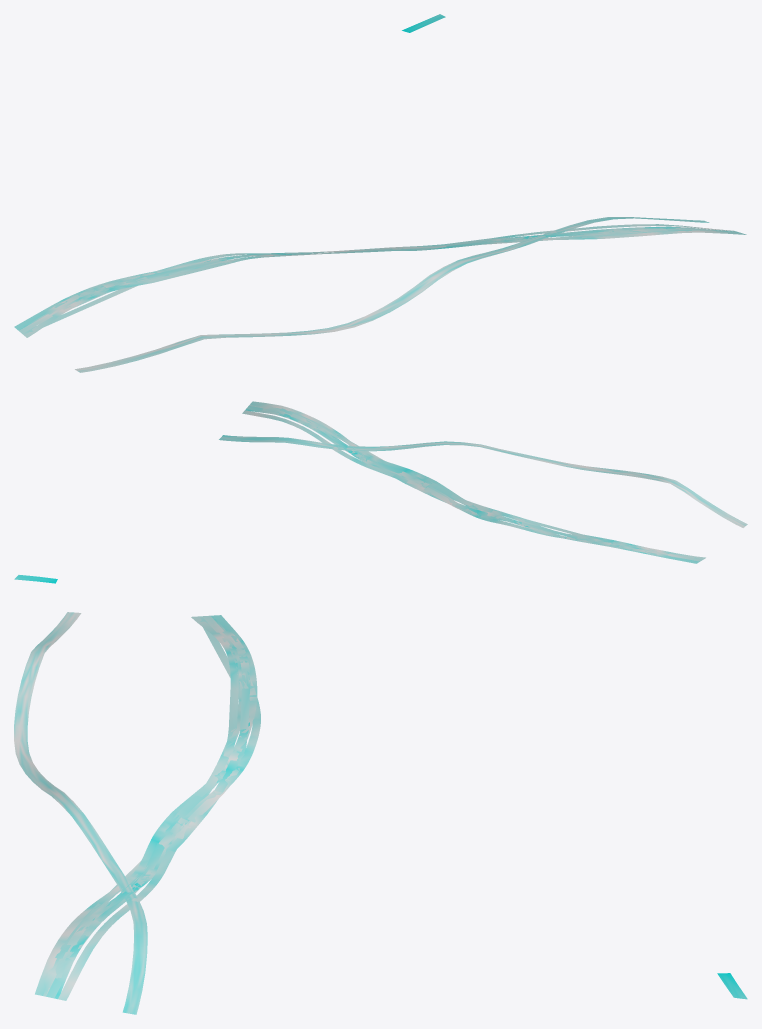
Rendered from cell_175_117.fbx.
3 views of the same model, one above another, from view 1: azimuth 30°, elevation 25°; view 2: azimuth 150°, elevation 25°; view 3: azimuth 270°, elevation 25° (orthographic). The views are drawn at different scales.
Parts seen in each view (by area): view 1: SpaceCenter_Long3_GenerateRoad_Sand_TireTracks_Narrow_Mesh_., SpaceCenter_Long3_GenerateRoad_Sand_TireTracks_Width_Mesh_x.; view 2: SpaceCenter_Long3_GenerateRoad_Sand_TireTracks_Narrow_Mesh_., SpaceCenter_Long3_GenerateRoad_Sand_TireTracks_Width_Mesh_x.; view 3: SpaceCenter_Long3_GenerateRoad_Sand_TireTracks_Narrow_Mesh_., SpaceCenter_Long3_GenerateRoad_Sand_TireTracks_Width_Mesh_x..
Boxes of the visible parts, x1,y1,x2,y2 form: SpaceCenter_Long3_GenerateRoad_Sand_TireTracks_Narrow_Mesh_.: [14, 224, 746, 337]; SpaceCenter_Long3_GenerateRoad_Sand_TireTracks_Width_Mesh_x.: [75, 14, 709, 372]; SpaceCenter_Long3_GenerateRoad_Sand_TireTracks_Narrow_Mesh_.: [242, 401, 705, 563]; SpaceCenter_Long3_GenerateRoad_Sand_TireTracks_Width_Mesh_x.: [14, 435, 747, 583]; SpaceCenter_Long3_GenerateRoad_Sand_TireTracks_Narrow_Mesh_.: [35, 615, 260, 1000]; SpaceCenter_Long3_GenerateRoad_Sand_TireTracks_Width_Mesh_x.: [14, 612, 747, 1014].
Size of the model in its own units: 64 by 4.45 by 53.76.
